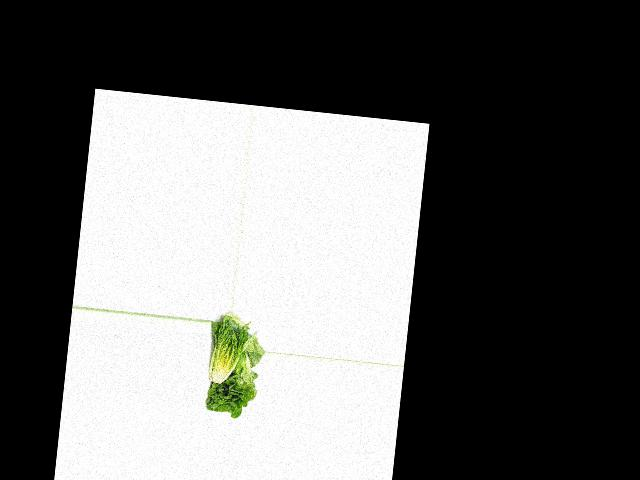lettuce: (201, 351, 260, 418)
